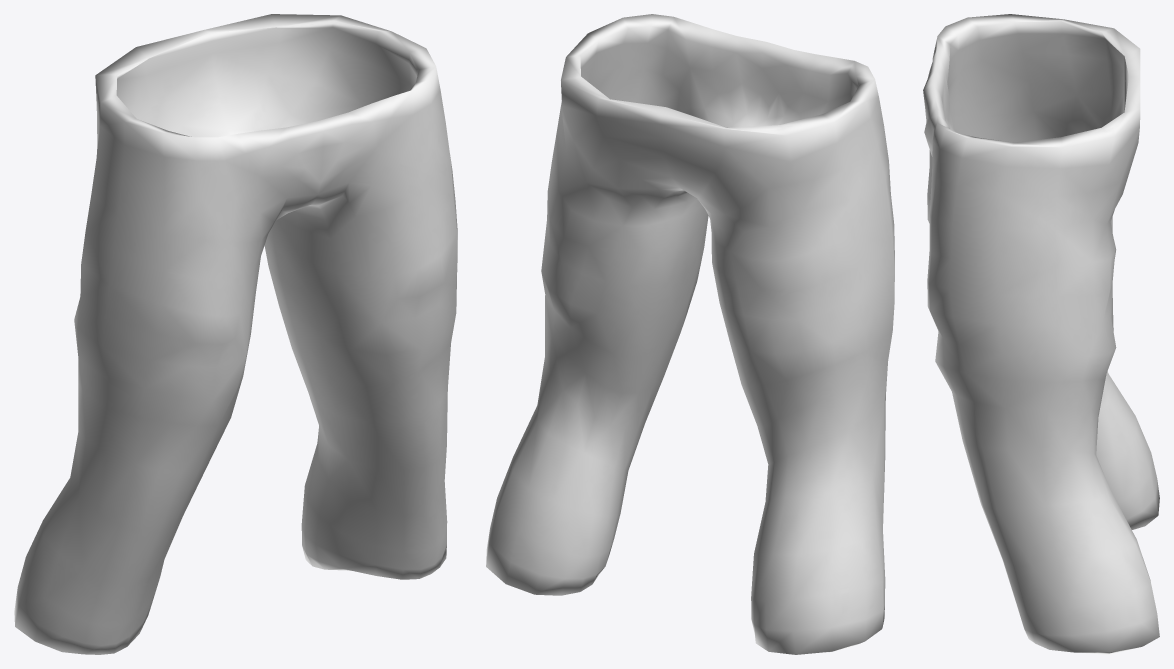
Rendered from kmi_pants.fbx.
3 views of the same model, side by side, from view 1: azimuth 30°, elevation 25°; view 2: azimuth 150°, elevation 25°; view 3: azimuth 270°, elevation 25° (orthographic). The views are drawn at different scales.
Visible parts, largest first — view 1: Extract4_2; view 2: Extract4_2; view 3: Extract4_2.
Part boxes in pixels (x1=…): Extract4_2: x1=14, y1=14, x2=457, y2=654; Extract4_2: x1=486, y1=14, x2=894, y2=654; Extract4_2: x1=923, y1=14, x2=1159, y2=654.
Size of the model in its own units: 0.5196 by 0.6644 by 0.287.
Materials: 1 (1 with a texture image).
